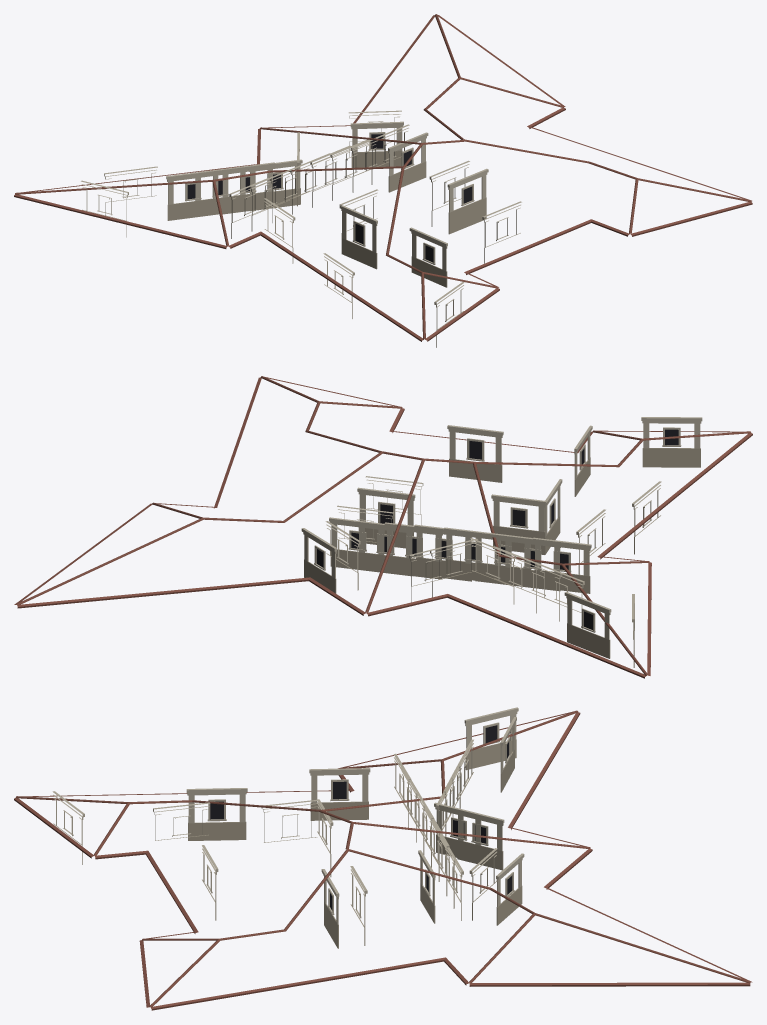
3 renders of one model, top to bottom at view 1: azimuth 30°, elevation 25°; view 2: azimuth 150°, elevation 25°; view 3: azimuth 270°, elevation 25°, orthographic. The views are drawn at different scales.
Visible parts, largest first — view 1: detail; view 2: detail; view 3: detail.
Boxes of the visible parts, <box> form: detail: <box>14,14,752,347</box>; detail: <box>14,376,752,678</box>; detail: <box>14,707,752,1010</box>.
Size of the model in its own units: 64.18 by 9.74 by 67.24.
